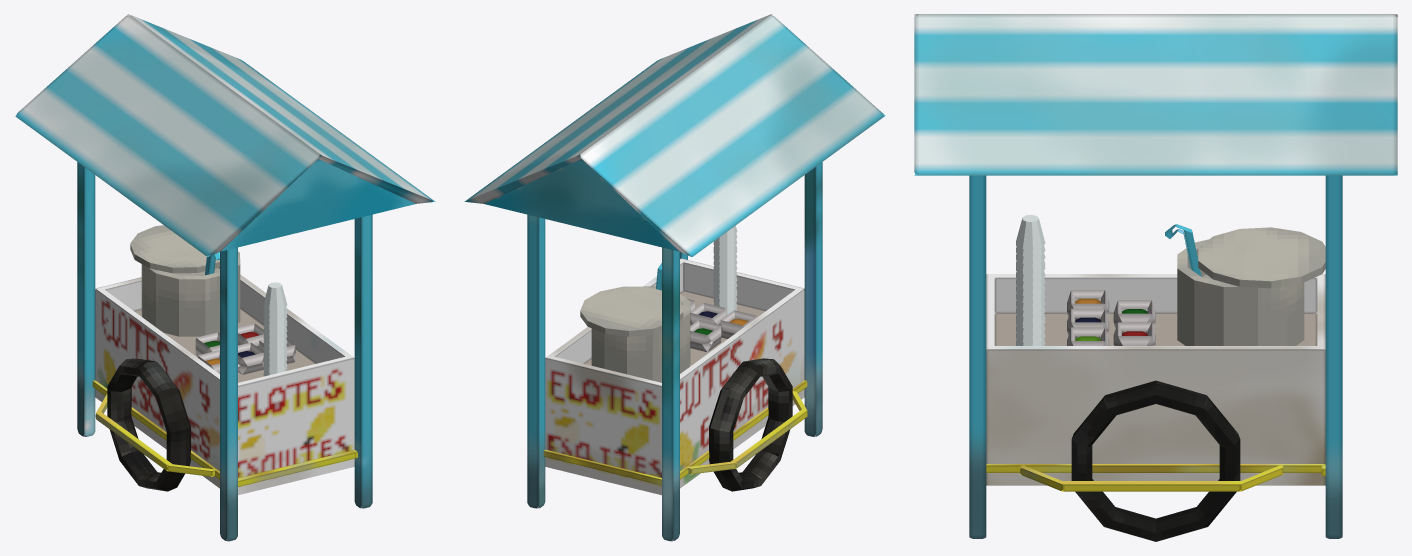
The model's file is EloteCart.fbx.
3 renders of one model, left to right at view 1: azimuth 30°, elevation 25°; view 2: azimuth 150°, elevation 25°; view 3: azimuth 270°, elevation 25°, orthographic. The views are drawn at different scales.
Visible parts, largest first — view 1: base; view 2: base; view 3: base.
Part boxes in pixels (left/top/right/bottom): base: left=15, top=14, right=435, bottom=541; base: left=464, top=14, right=885, bottom=541; base: left=914, top=14, right=1397, bottom=541.
Bounding box in the file's own units: 176 × 284 × 259.
10 materials, 10 textured.
